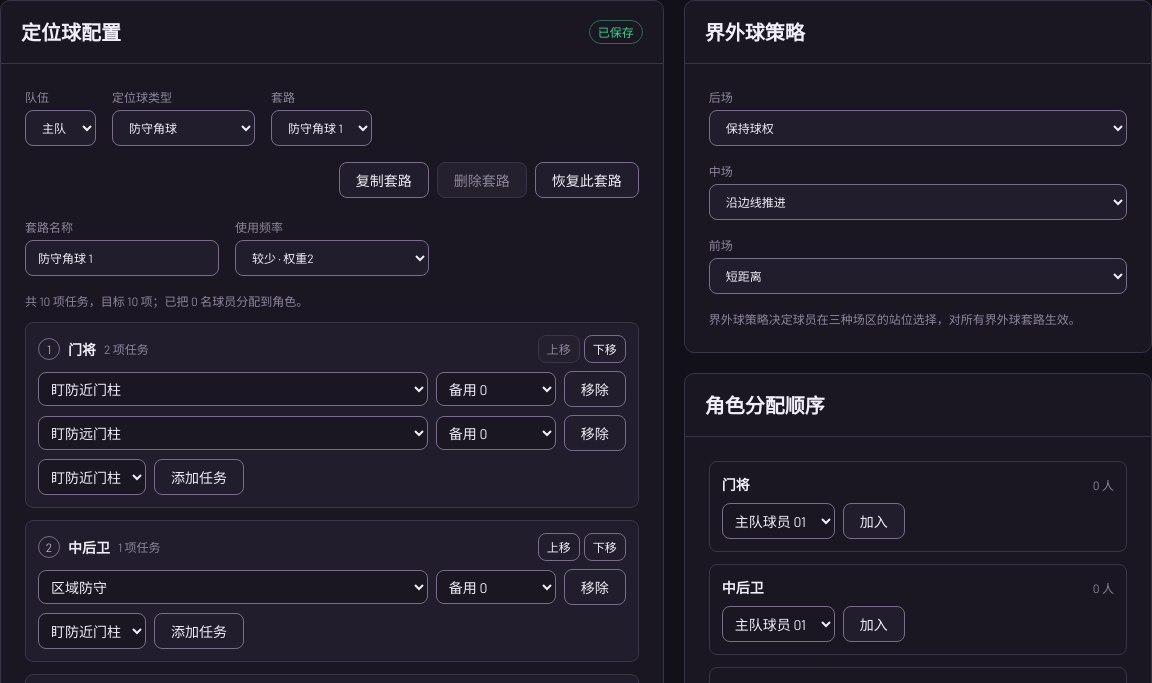
Scenario: SetpiecesPage › 切换定位球类型后展示对应套路与发球策略
expect the field labelled "套路名称" is shown: met, box [25,240,219,276]
Select "进攻角球" in the dropdown labelled "定位球类型" at (184, 128), box [112,110,255,146]
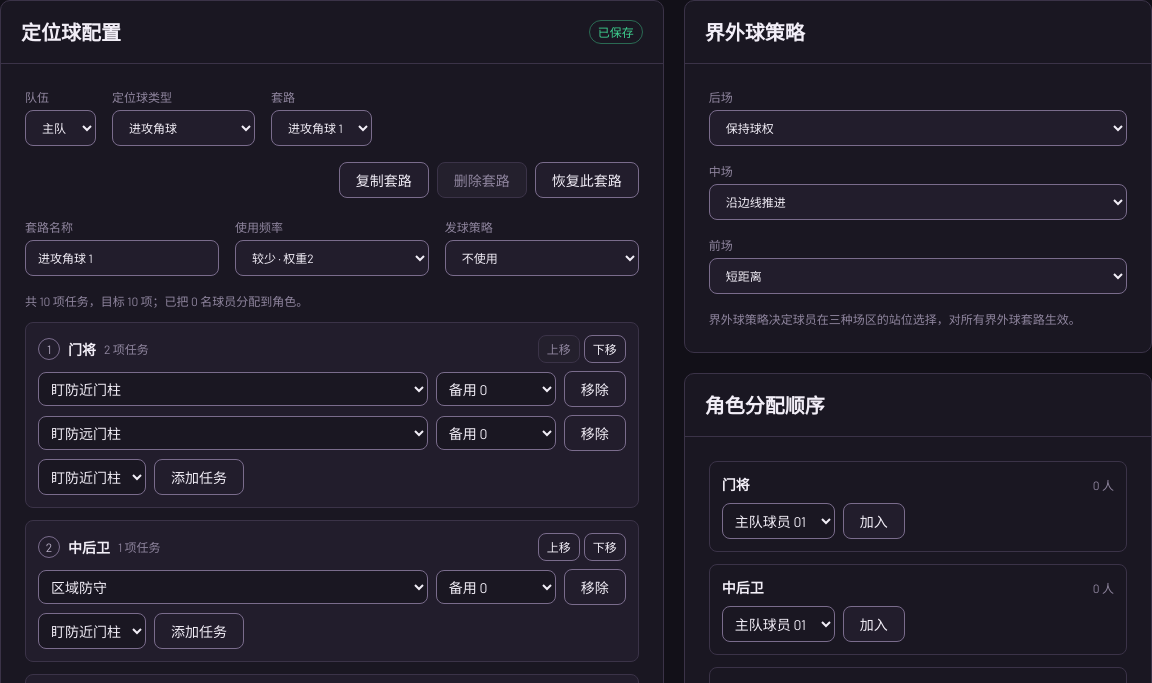
expect the field labelled "套路名称" holds "进攻角球 1": met, box [25,240,219,276]
